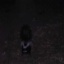skunk: (19, 27, 32, 54)
